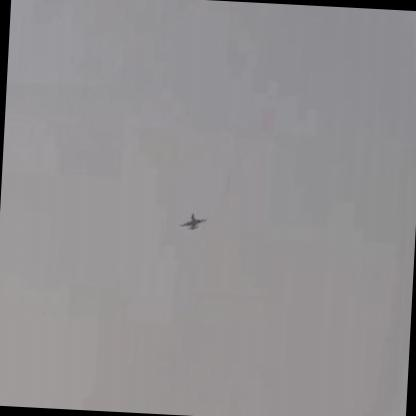plane: (177, 209, 209, 231)
